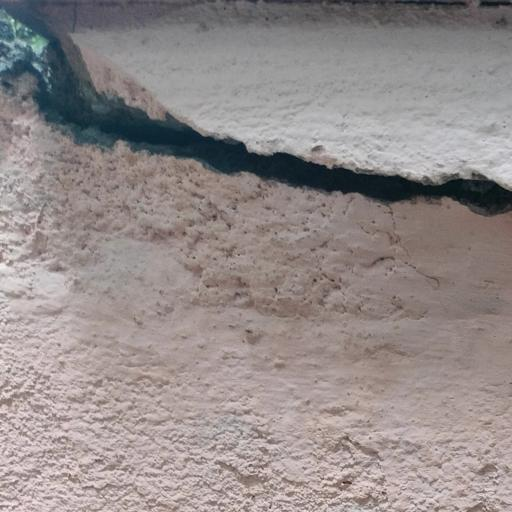major_crack: (0, 0, 512, 222)
